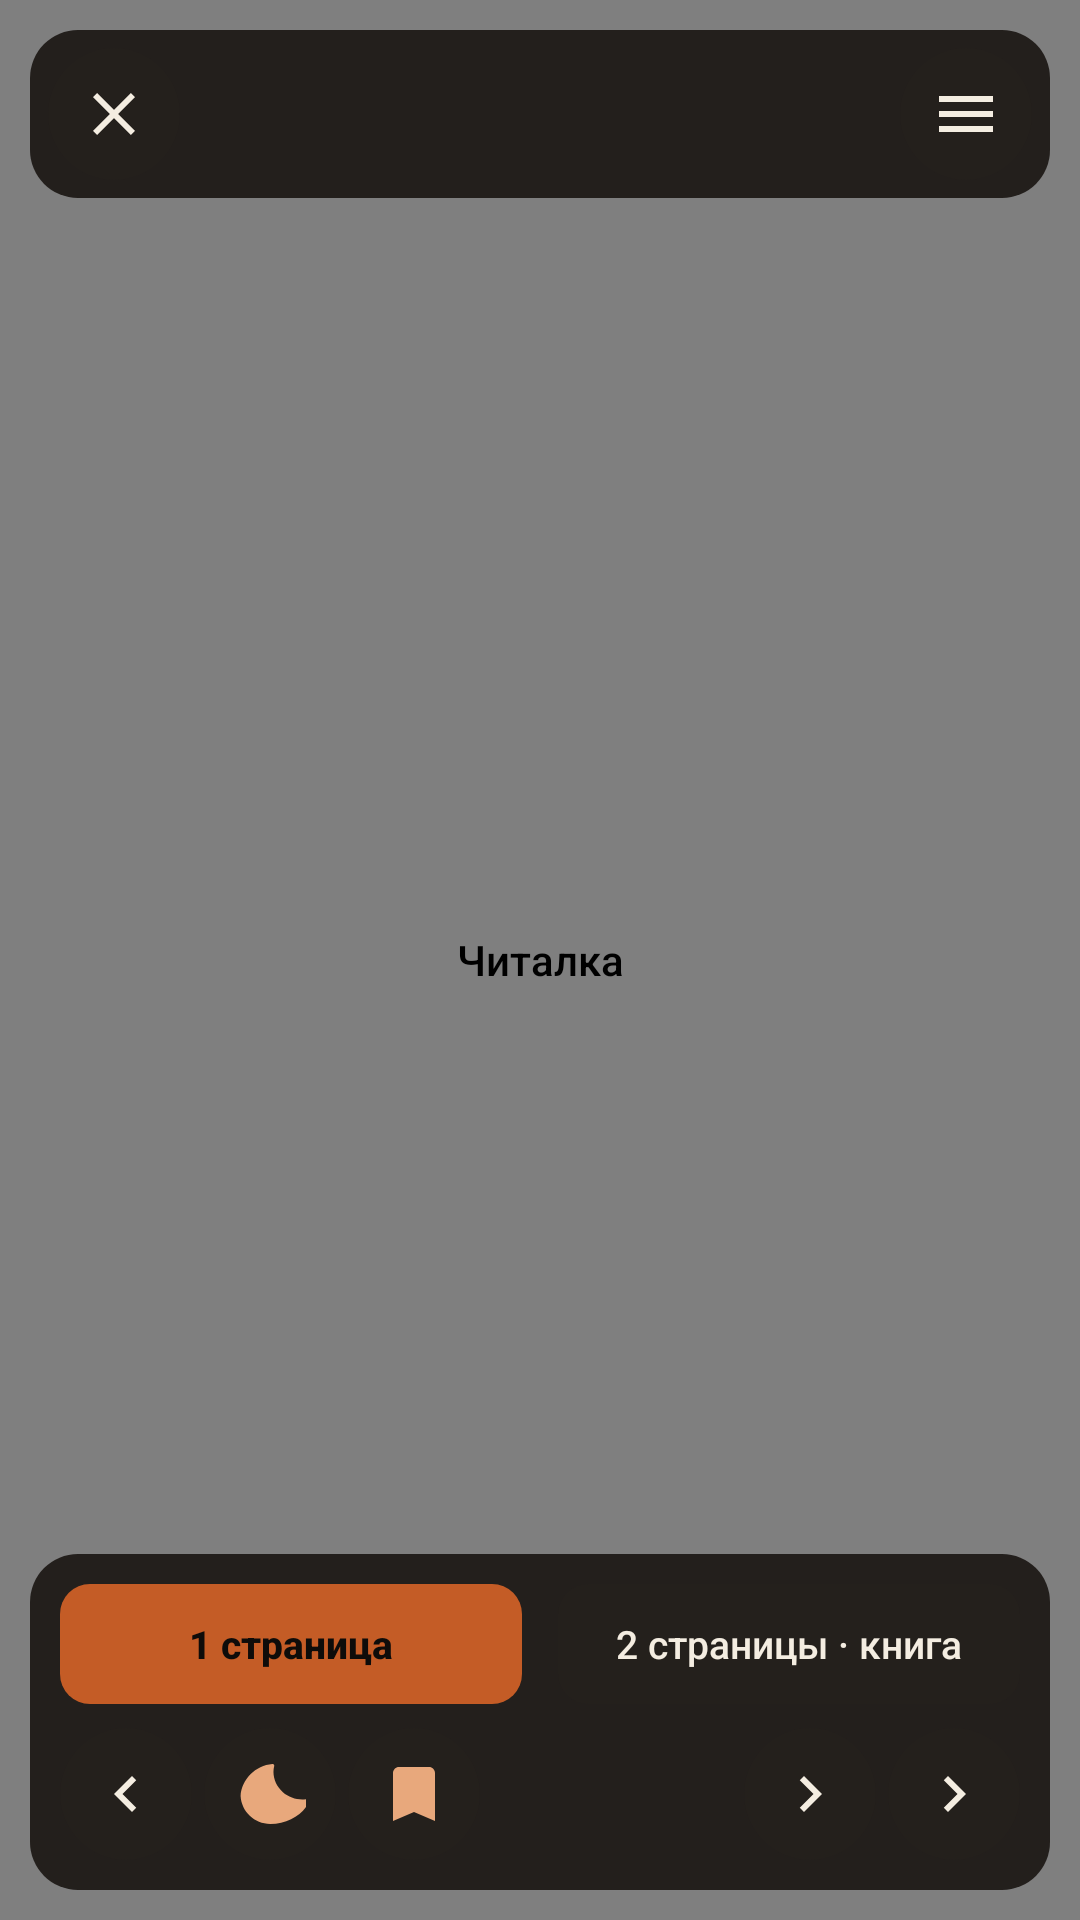

Icon click points for this 1080×1920 phone screenshot, format point (x, y):
Выход: point (114, 114)
День/ночь: point (273, 1794)
Закладка: point (414, 1794)
Меню: point (966, 114)
Пред. глава: point (125, 1794)
След. глава: point (955, 1794)
